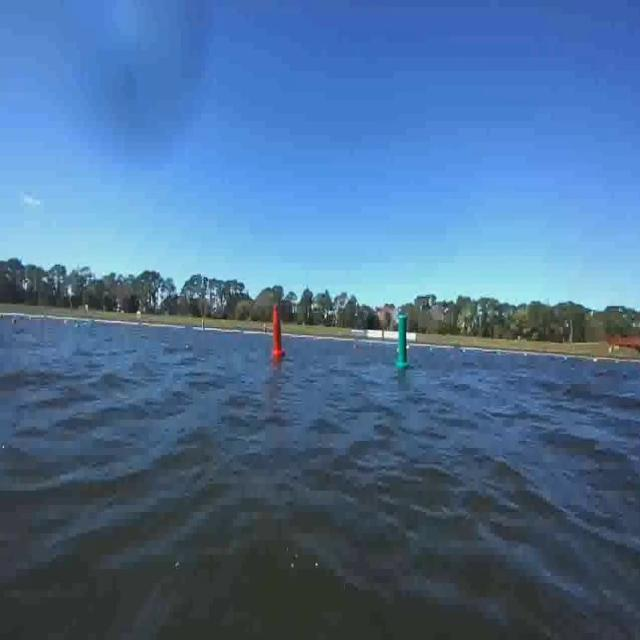green-column-buoy: (397, 315, 412, 371)
red-column-buoy: (272, 304, 286, 358)
